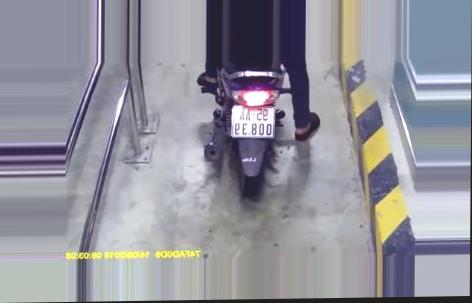License_Plate: (228, 102, 279, 141)
